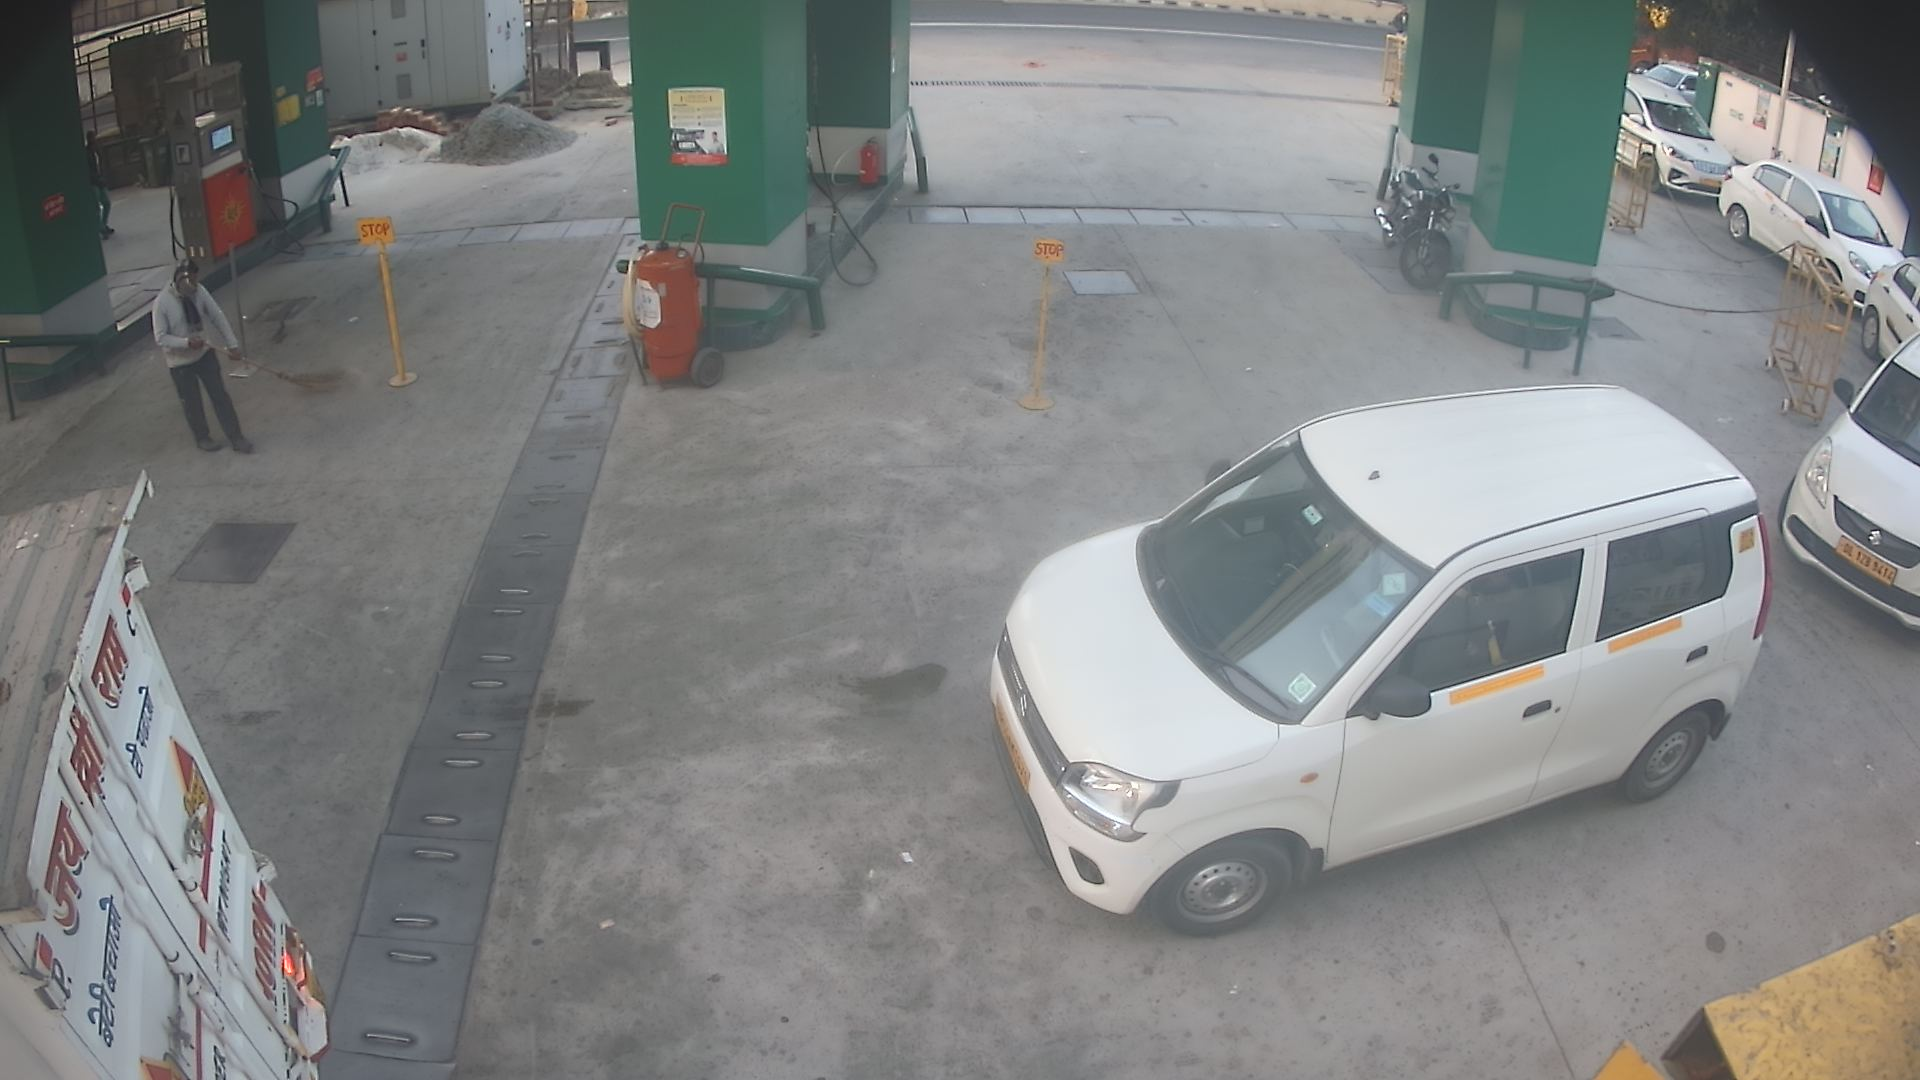Bike: (1340, 137, 1497, 320)
Car: (963, 372, 1801, 960), (1762, 311, 1917, 684), (1704, 142, 1908, 323), (1601, 57, 1745, 208), (1851, 245, 1917, 386), (1631, 47, 1712, 127)
HMV: (3, 443, 360, 1077), (1615, 5, 1734, 94)
Others Other: (351, 196, 430, 405), (1004, 223, 1079, 427), (220, 215, 270, 380)
